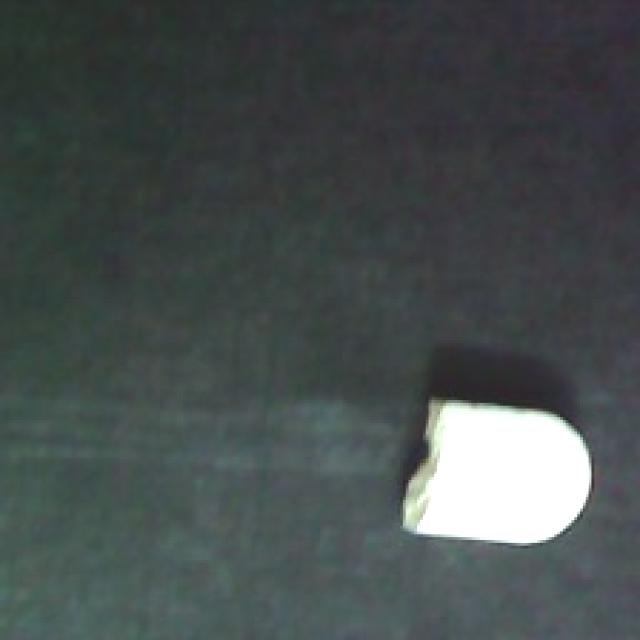defected: (398, 396, 598, 552)
